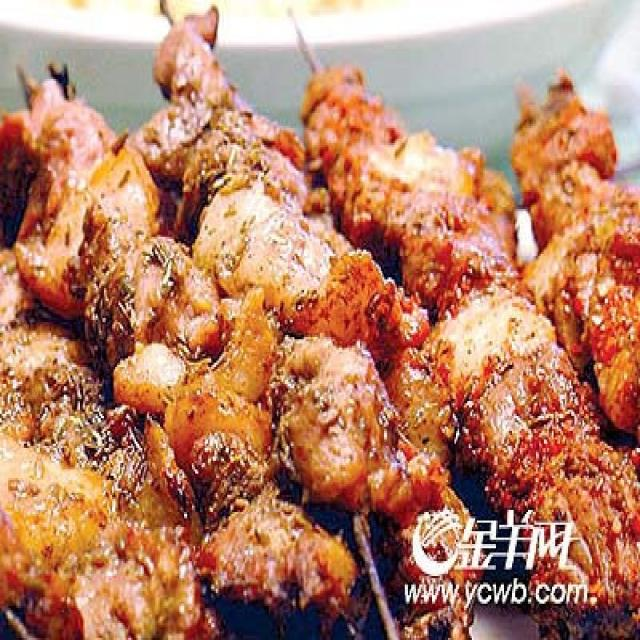烧串烤肉: (5, 13, 616, 614)
